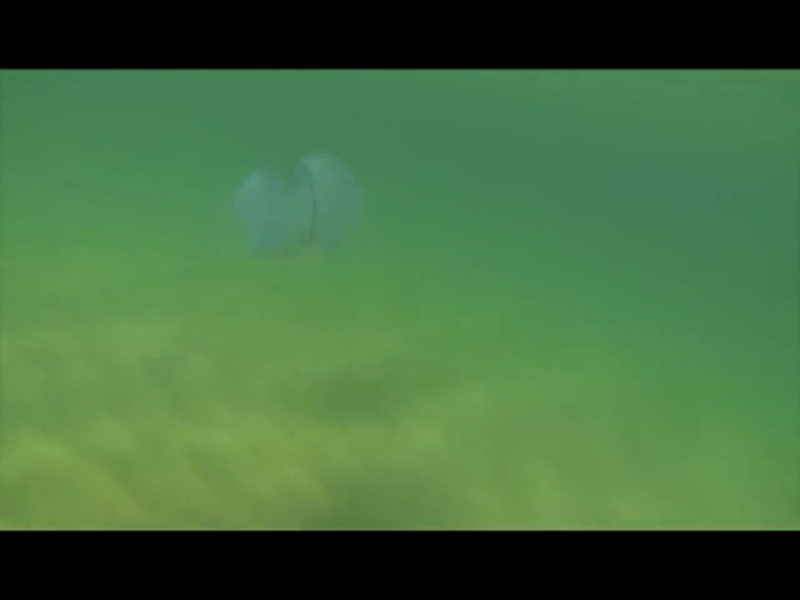blue jellyfish: (229, 152, 371, 267)
